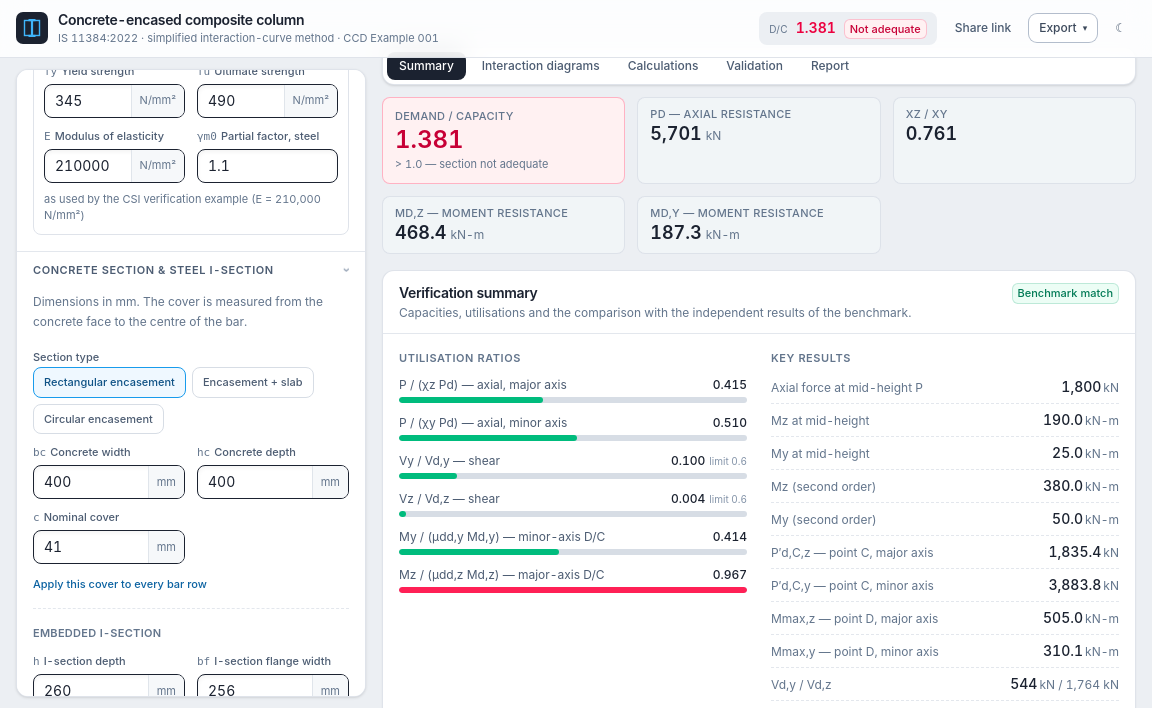
Test: application shell › switches the concrete section type and reveals the slab inputs
(page scrolled)
Click the button "Encasement + slab" at (253, 382), box [192,366,314,397]
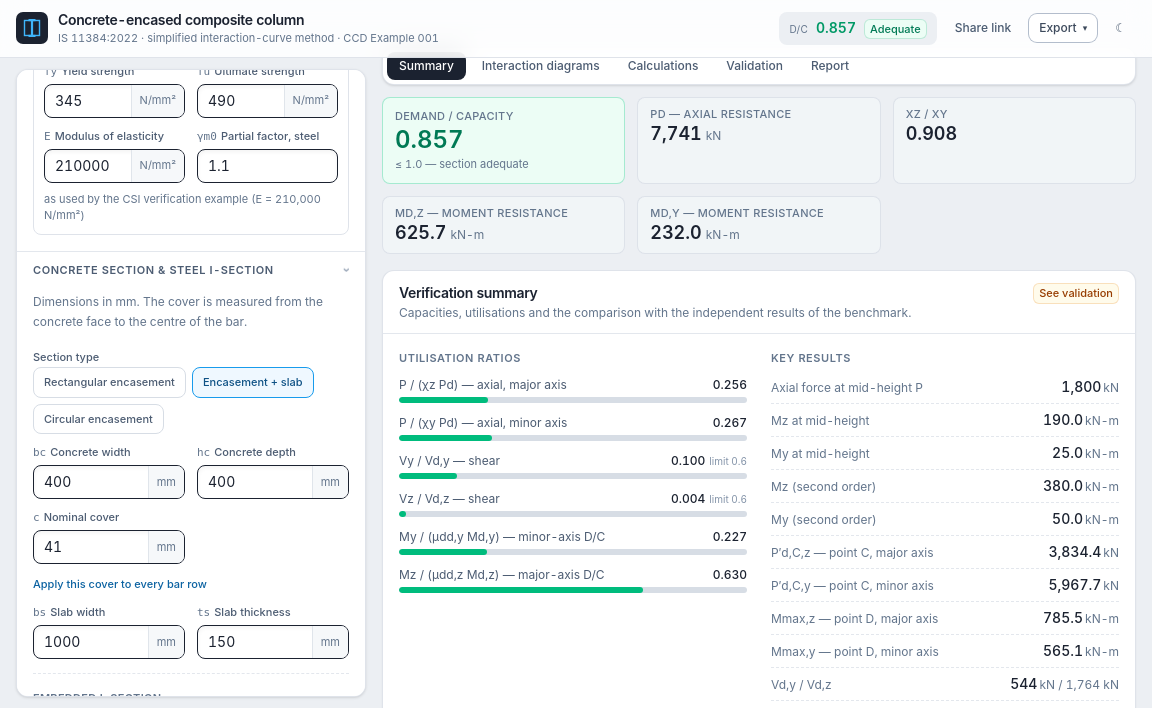
Check: the field labelled "bs Slab width mm" holds "1000", box [34,626,148,658]
Check: the text "0.857" is shown, box [816,18,856,38]
Click the button "Rectangular encasement" at (109, 382), box [33,366,186,397]
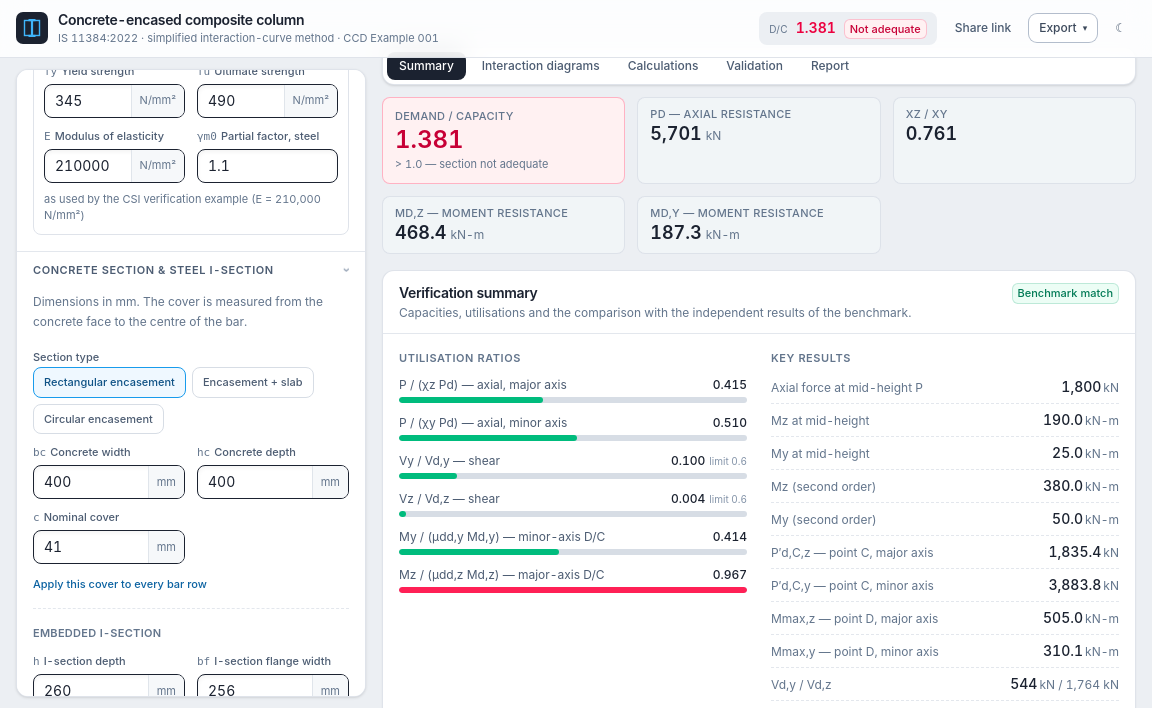
Check: the text "1.381" is shown, box [796,18,836,38]
